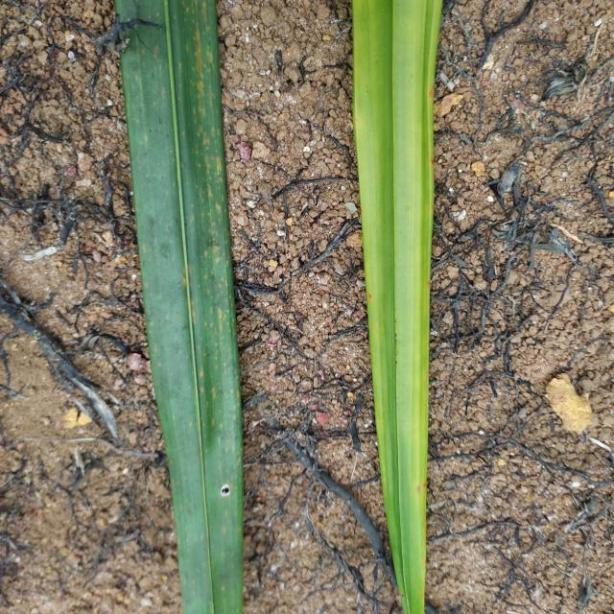nitrogen: (348, 0, 440, 614)
